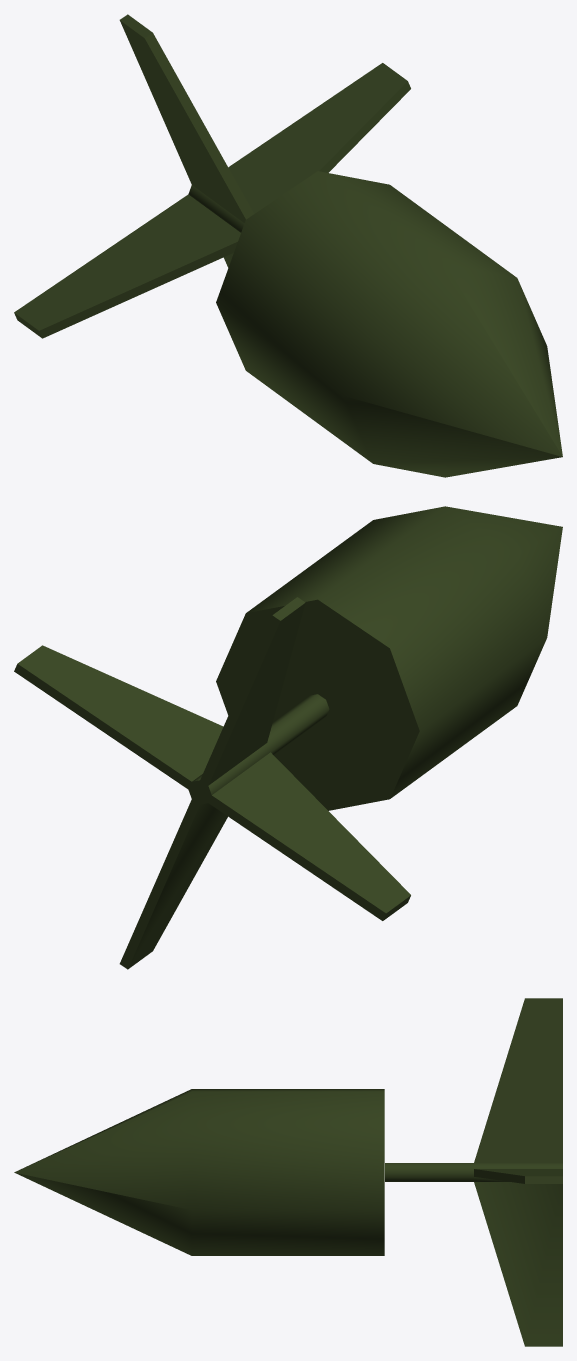
File: ffvat4bullet.fbx
3 renders of one model, top to bottom at view 1: azimuth 30°, elevation 25°; view 2: azimuth 150°, elevation 25°; view 3: azimuth 270°, elevation 25°, orthographic. The views are drawn at different scales.
Parts seen in each view (by area): view 1: ffvat4_bullet; view 2: ffvat4_bullet; view 3: ffvat4_bullet.
Boxes of the visible parts, left/top/right/bottom form: ffvat4_bullet: left=14, top=14, right=562, bottom=477; ffvat4_bullet: left=14, top=506, right=562, bottom=969; ffvat4_bullet: left=14, top=998, right=562, bottom=1346.
Bounding box in the file's own units: 365 × 365 × 617.
1 material, 1 textured.
